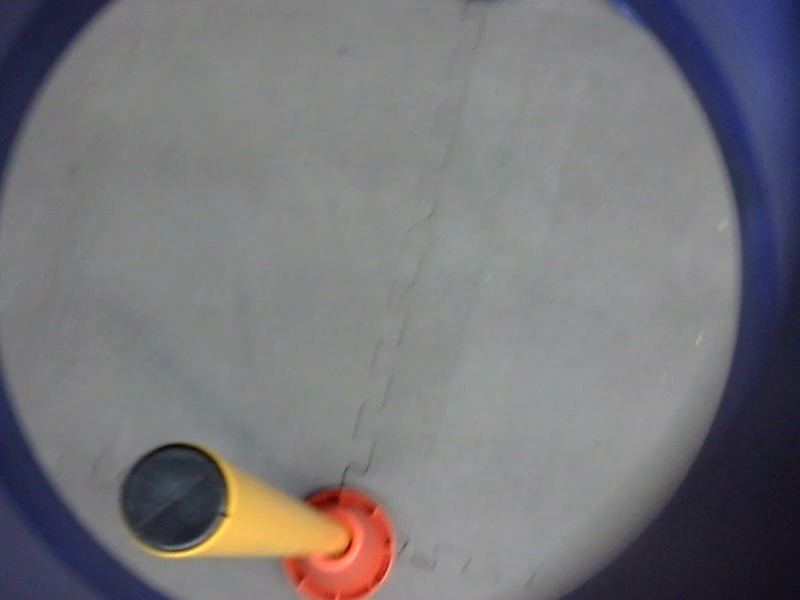tip: (111, 436, 239, 560)
